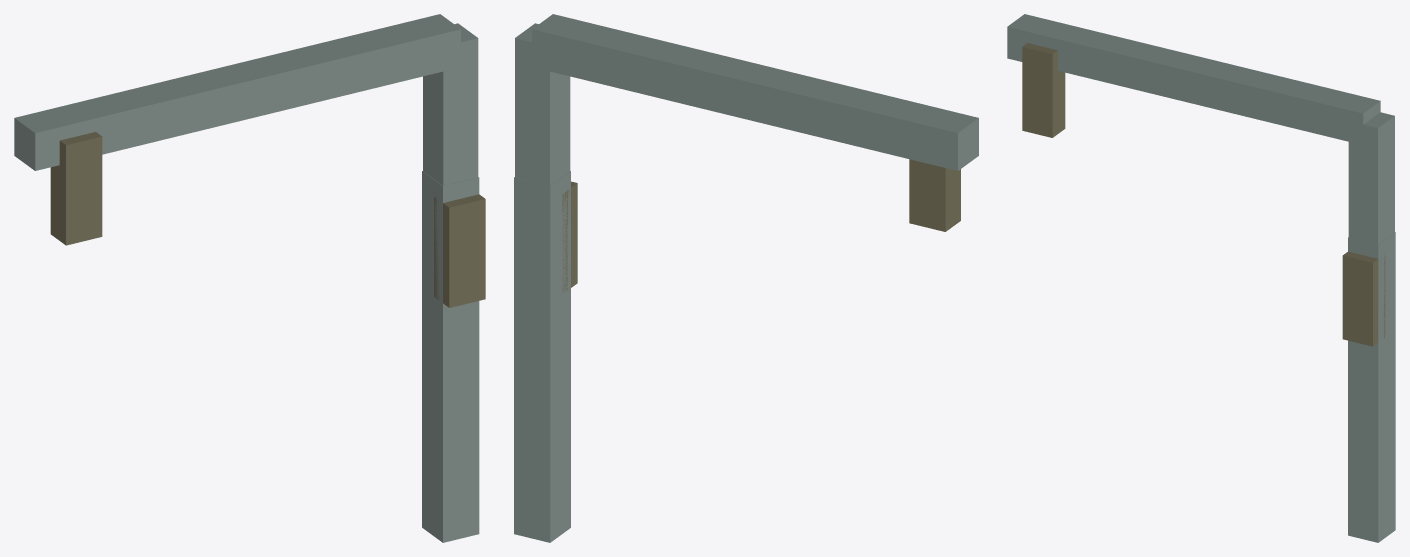
The model's file is SM_Semaforo_v1_Brazo_LOD1.fbx.
3 renders of one model, left to right at view 1: azimuth 30°, elevation 25°; view 2: azimuth 150°, elevation 25°; view 3: azimuth 330°, elevation 25°, orthographic. The views are drawn at different scales.
Parts seen in each view (by area): view 1: SM_urbano_extra_v21_LOD1; view 2: SM_urbano_extra_v21_LOD1; view 3: SM_urbano_extra_v21_LOD1.
Part boxes in pixels (x1,y1,x2,y2): SM_urbano_extra_v21_LOD1: (14,14,485,542); SM_urbano_extra_v21_LOD1: (514,14,978,542); SM_urbano_extra_v21_LOD1: (1007,14,1395,542).
Bounding box in the file's own units: 4.17 × 4.57 × 0.445.
